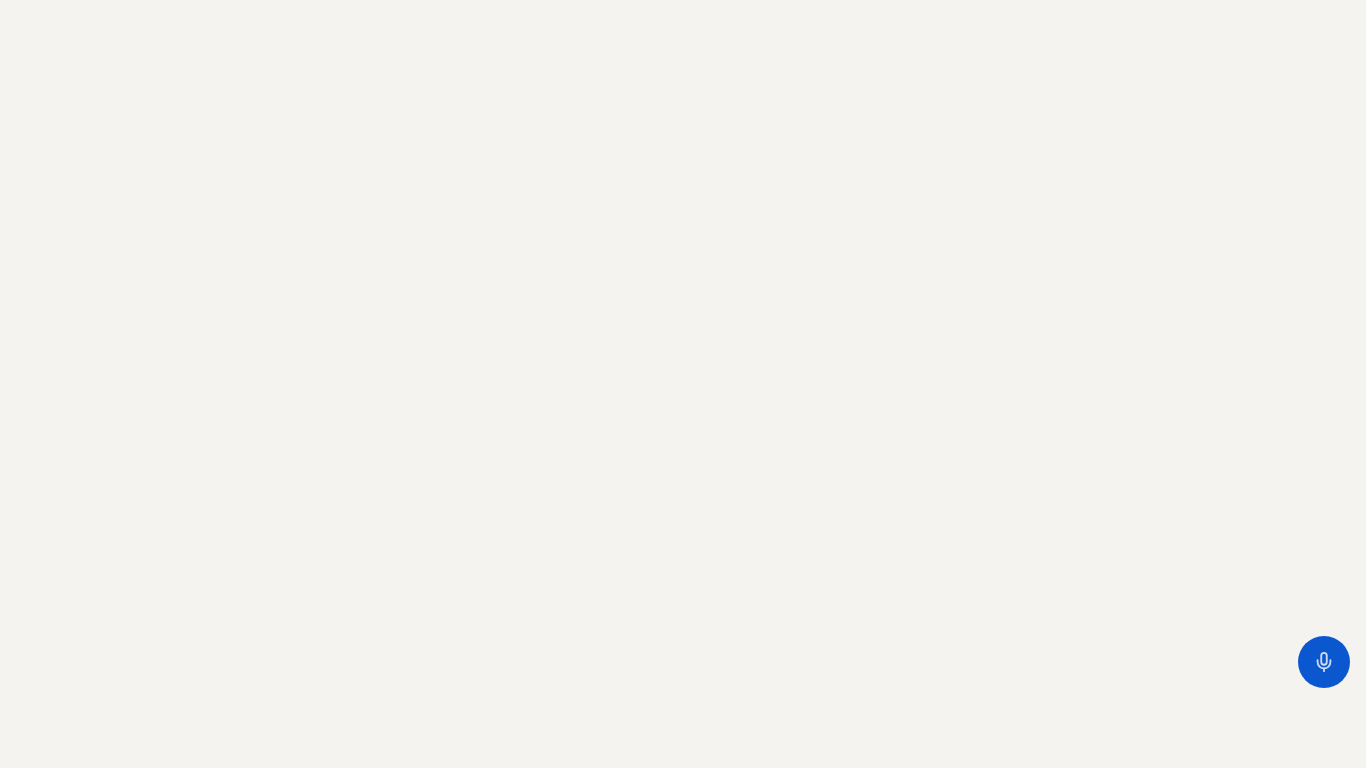
Test: 自由に話す › モックでは外部へ送らず、欄ごとの行を確認に並べる
Click the button named "音声入力を開始".
click(1324, 662)  # box [1298,636,1350,688]
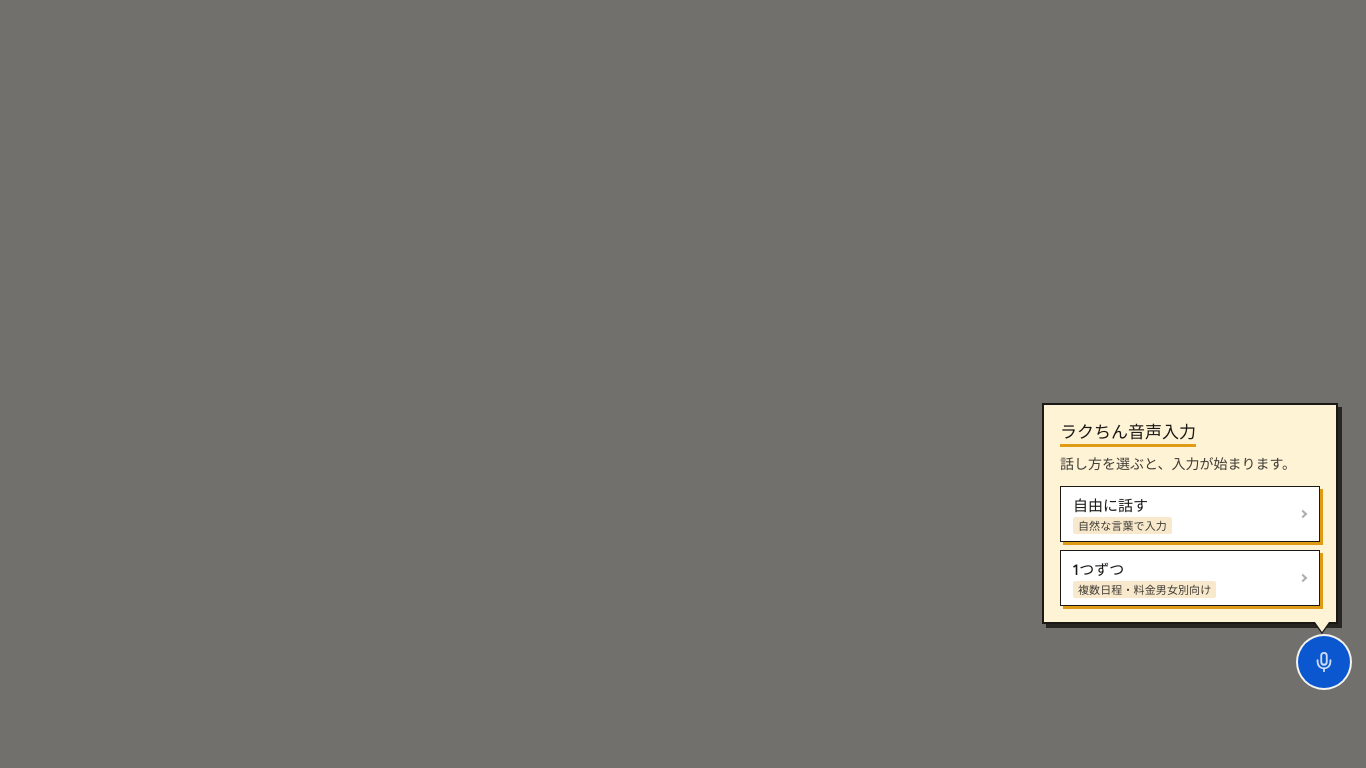
Click the button "自由に話す 自然な言葉で入力".
click(1111, 505)  # box [1060,486,1320,542]
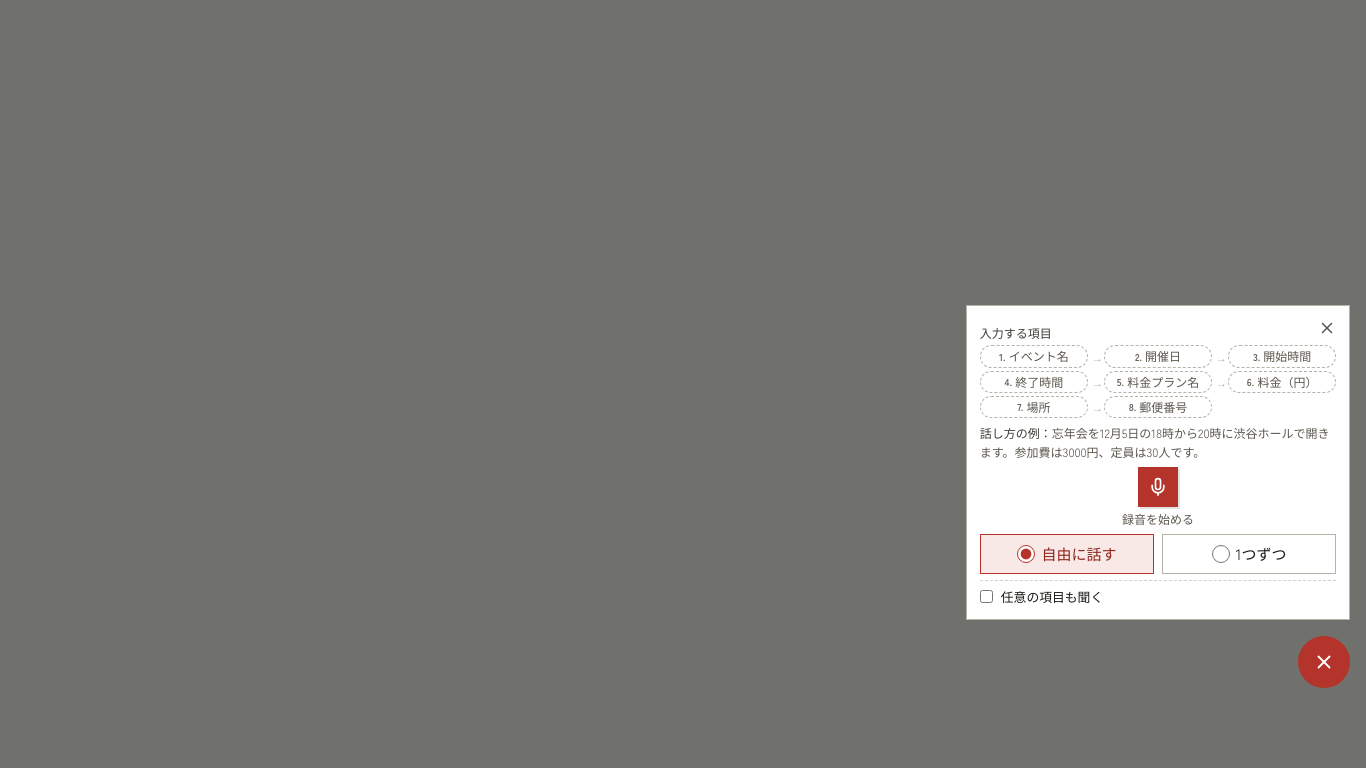
Click the button named "録音を始める".
click(1158, 487)  # box [1138,467,1178,507]
Wait 2100 ms
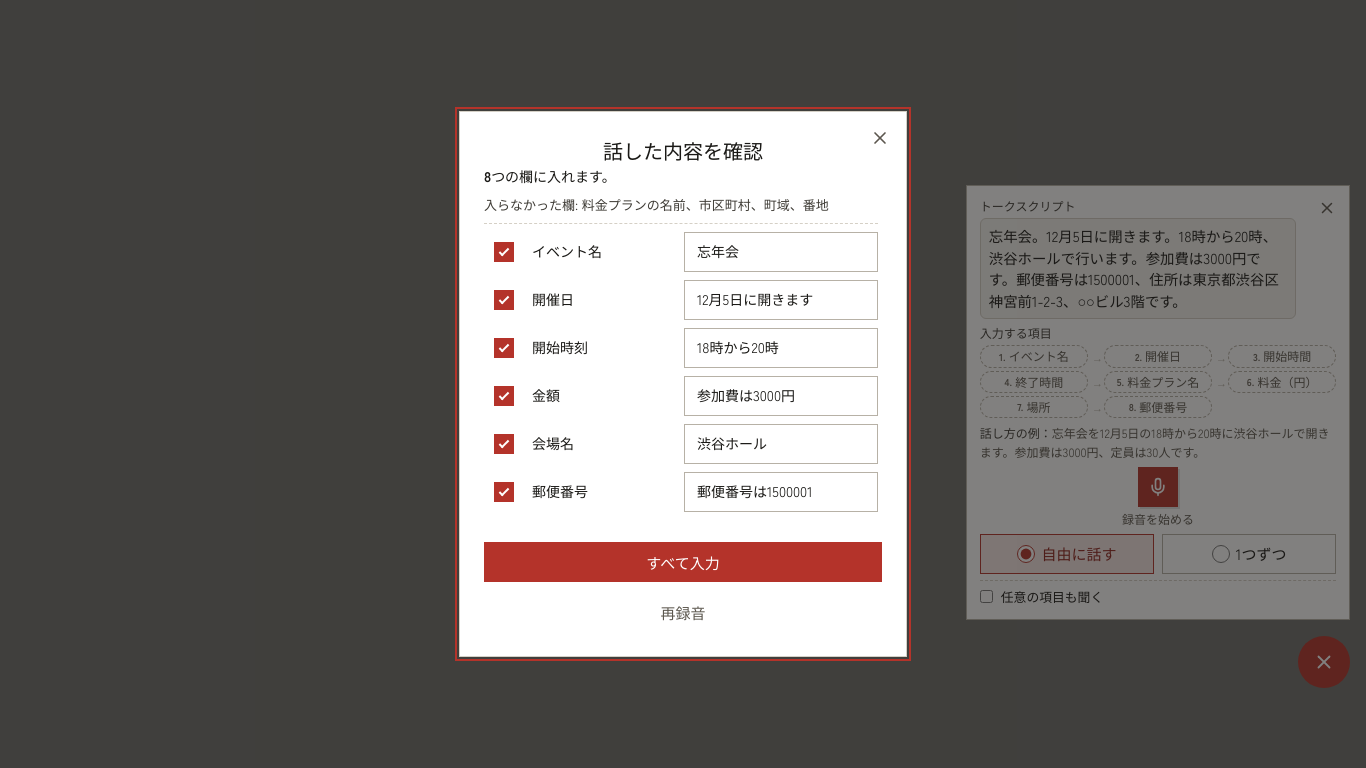
Expected: the heading "話した内容を確認" is shown, [603,136,763,165]
Expected: the dialog shows "つの欄に入れます。", [491,166,616,186]
Expected: the field labelled "開催日" is shown, [684,280,878,320]
